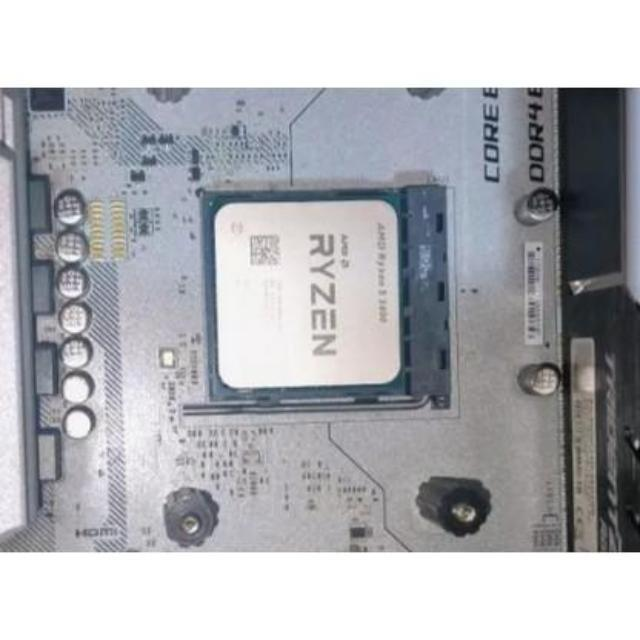CPU: (206, 194, 404, 394)
